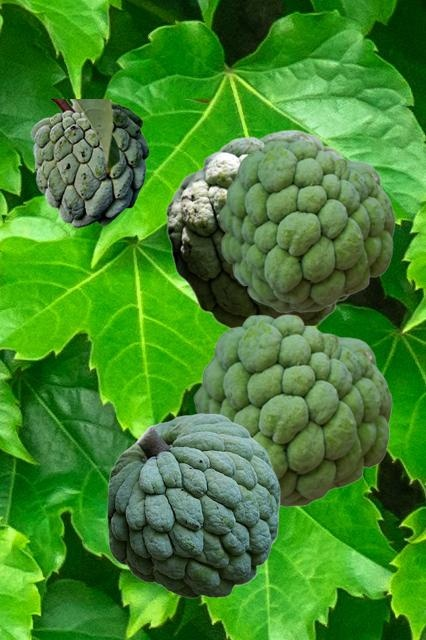atis: (193, 314, 391, 506), (165, 129, 349, 328), (107, 413, 279, 597), (218, 140, 394, 311), (30, 99, 211, 227)
